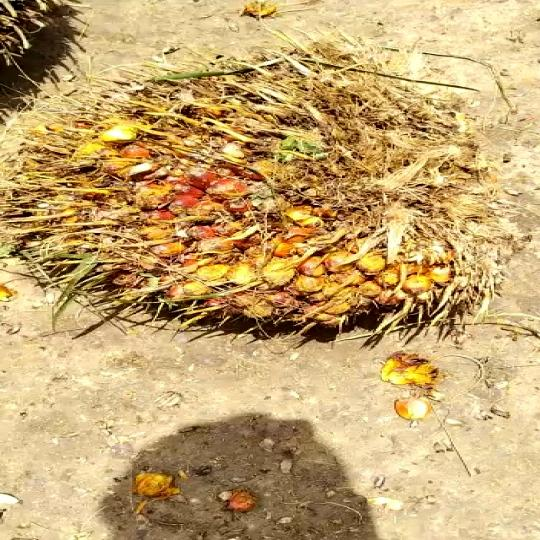terlalu masak: (0, 32, 540, 336)
